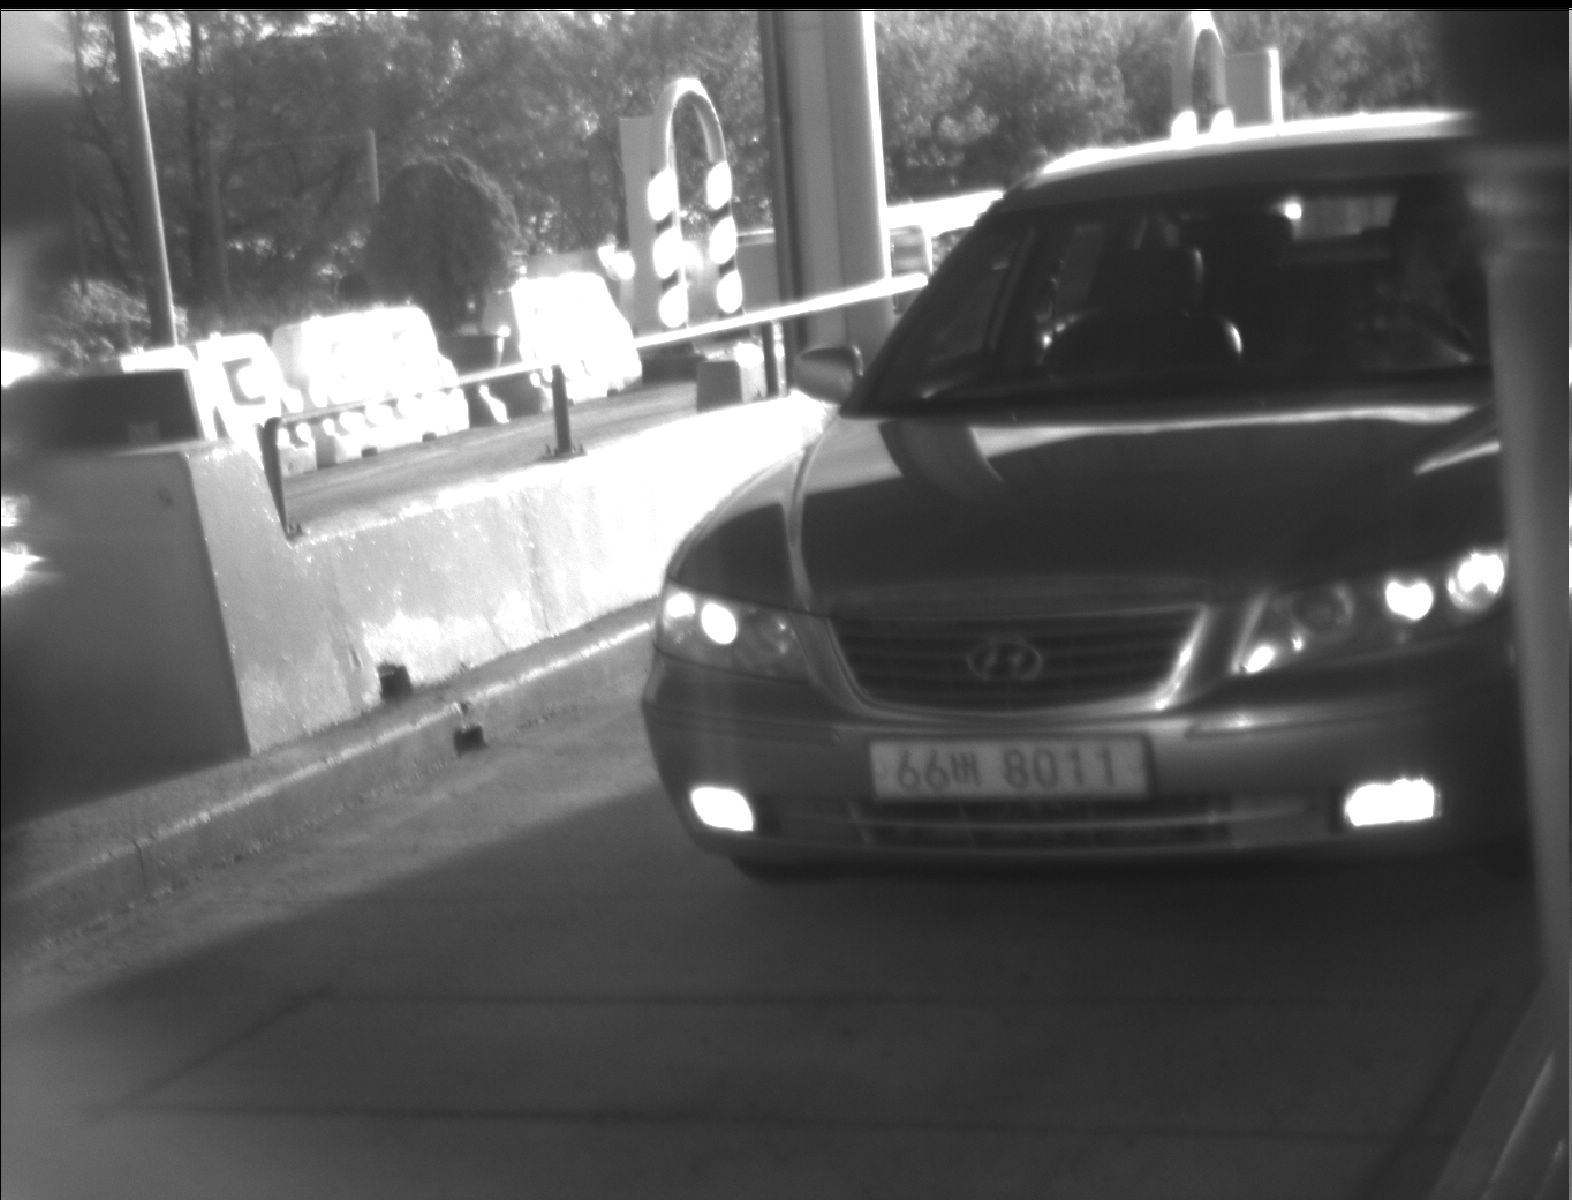car: (635, 88, 1527, 890)
plate: (863, 731, 1155, 802)
